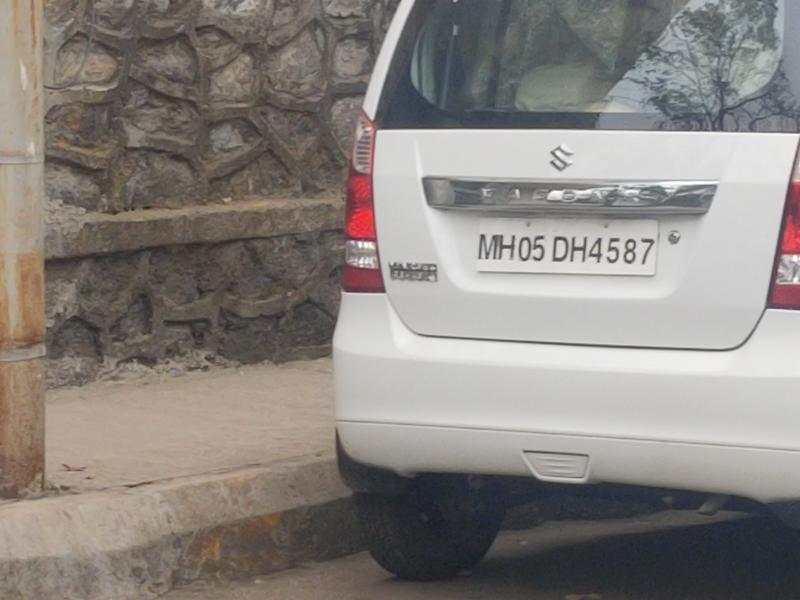license_plate: (469, 208, 669, 286)
